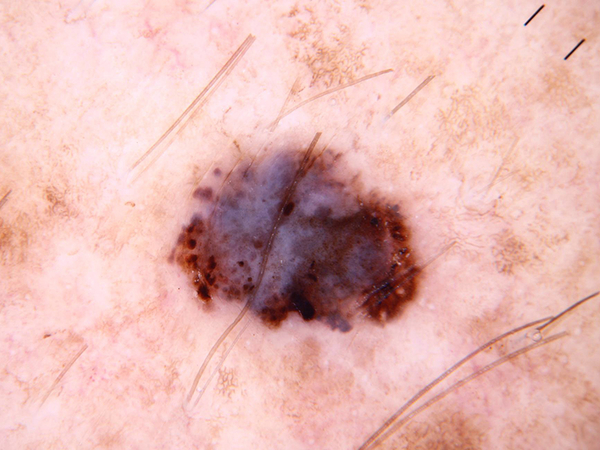Detected Lesion: (165, 140, 432, 336)
